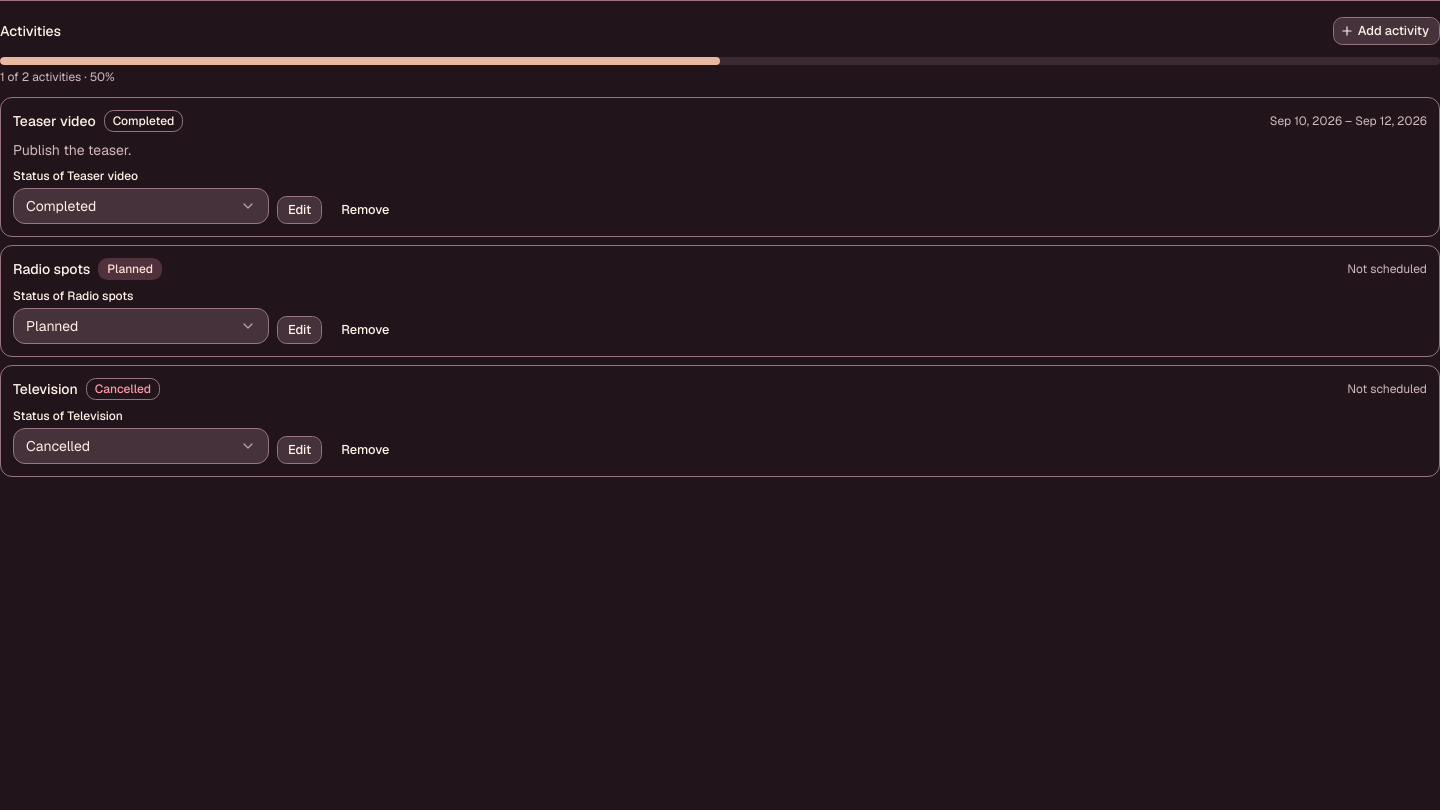
it: CampaignActivities › adding › keeps the form and the typed values when the save fails
Expected: the text "Teaser video" is shown, [13,111,96,131]
Click the button "Add activity".
click(1386, 31)  # box [1333,17,1439,45]
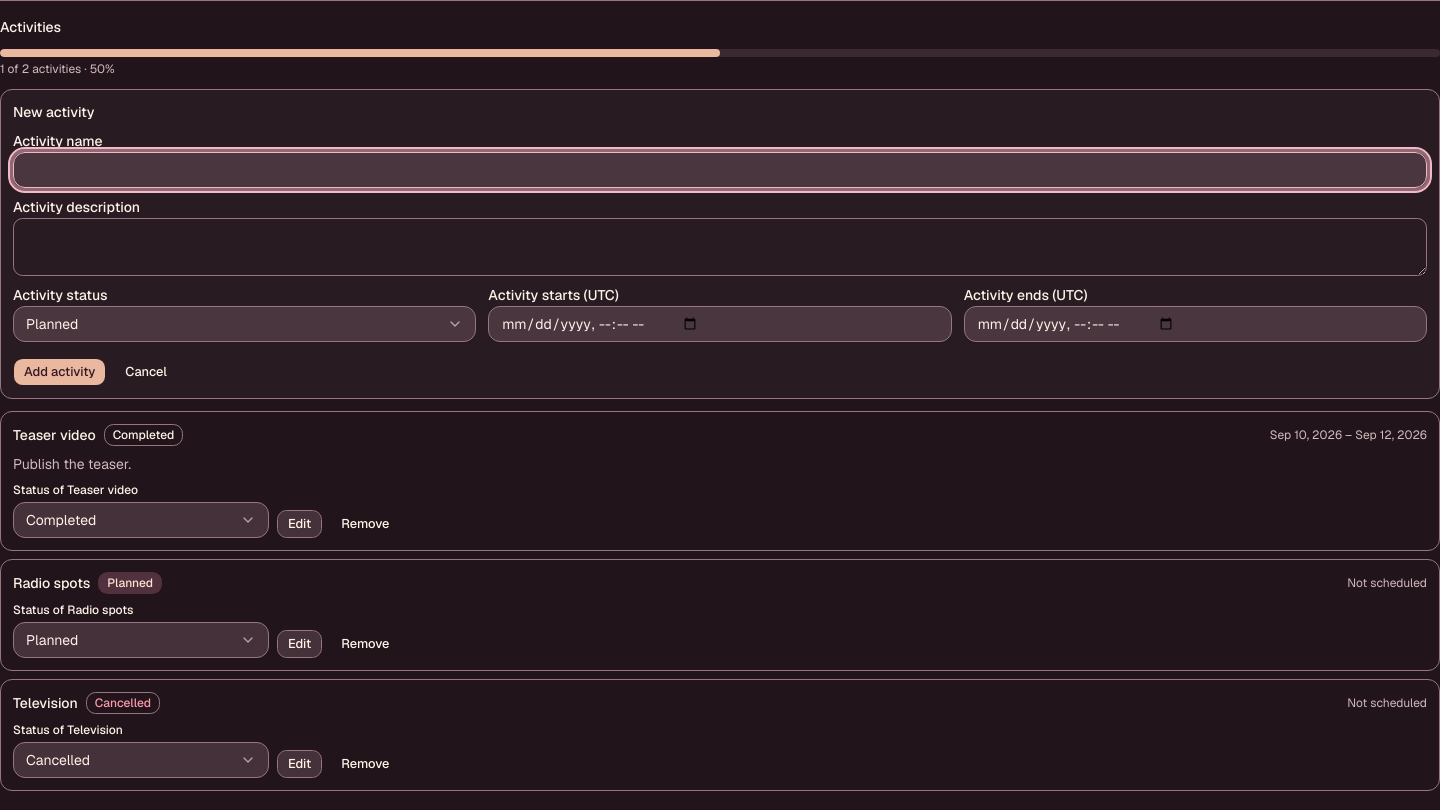
Type "Keep me" into the field labelled "Activity name".
click(720, 170); type("Keep me")  # box [13,152,1427,188]
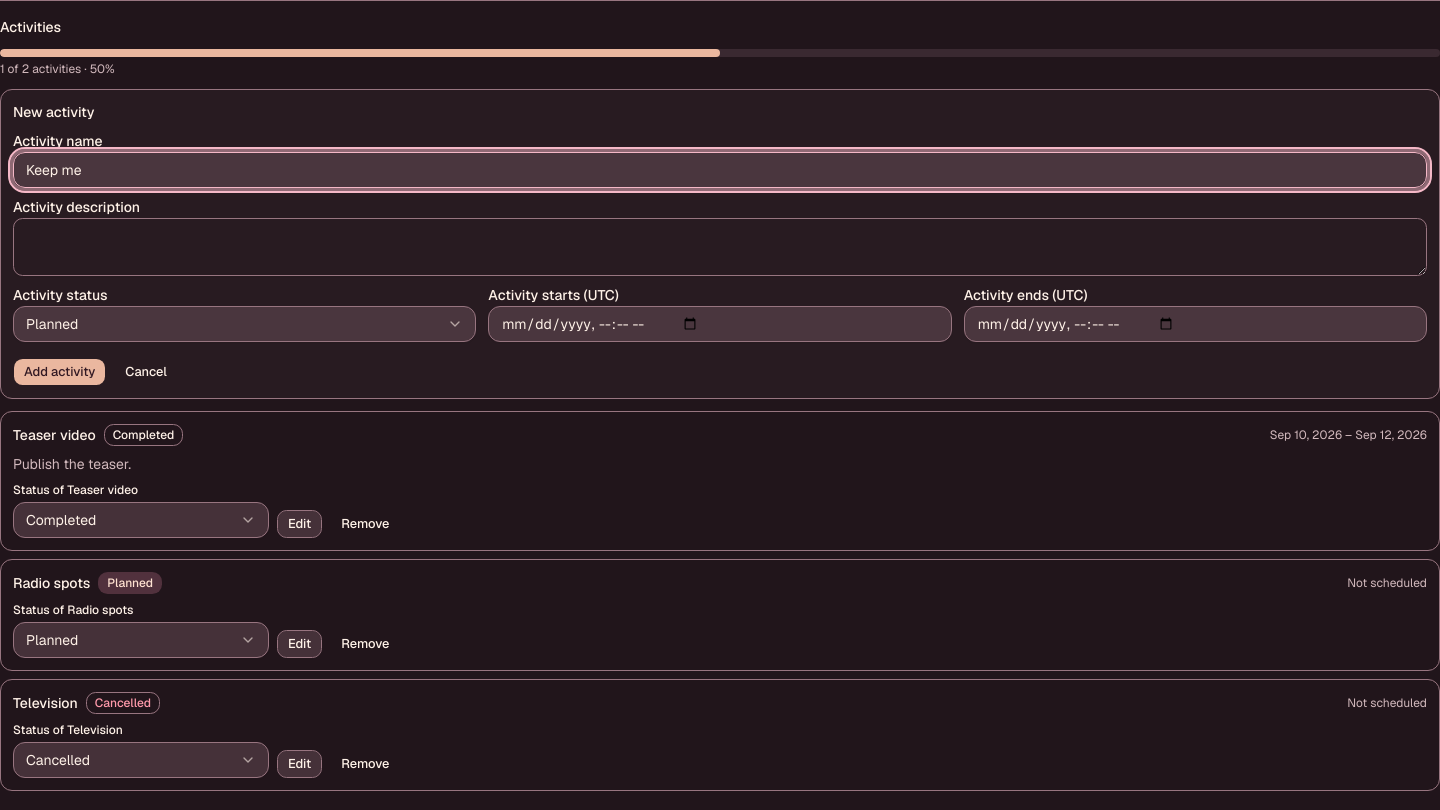
Click the button "Add activity".
click(60, 372)  # box [13,358,106,386]
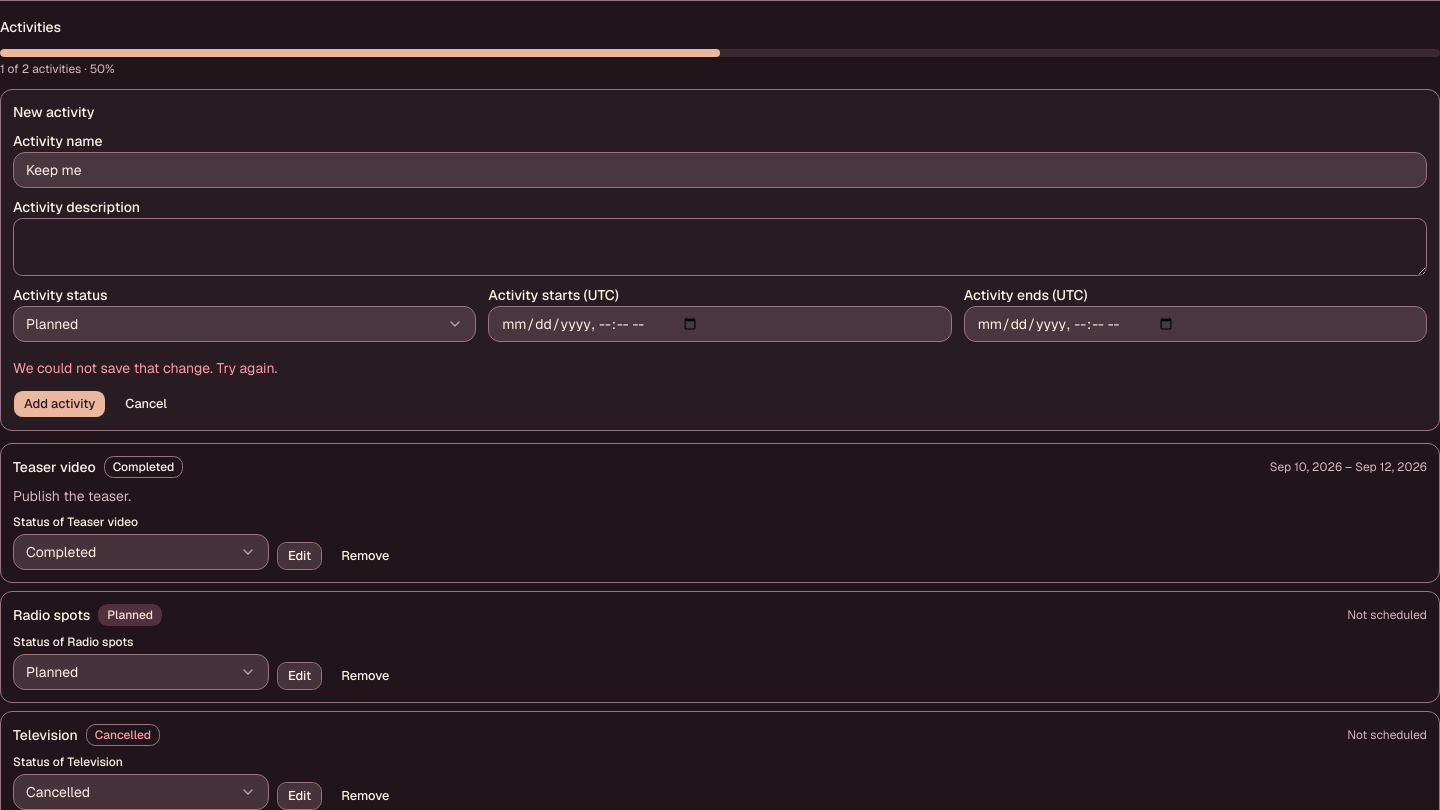
Expected: the text "We could not save that change. Try again." is shown, [13,359,277,377]
